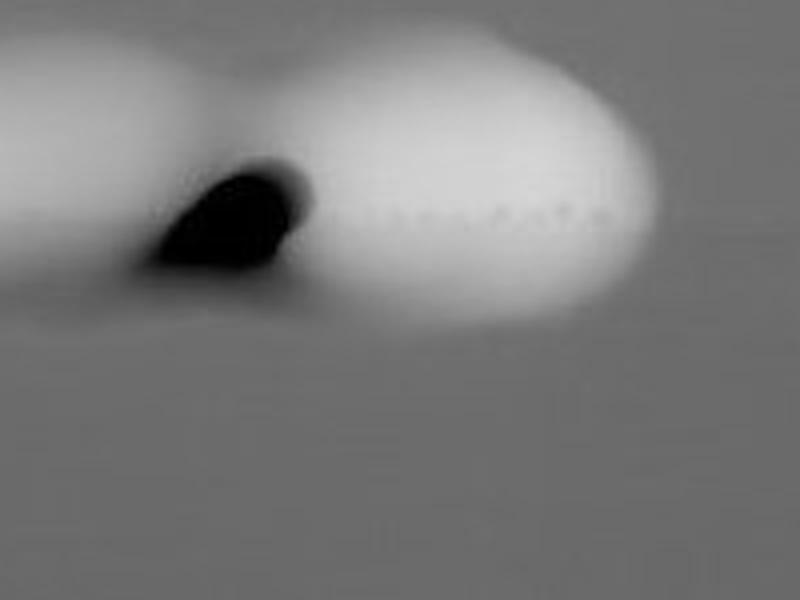defect: (154, 172, 301, 276), (591, 207, 612, 229), (491, 204, 513, 223), (557, 202, 576, 221)
